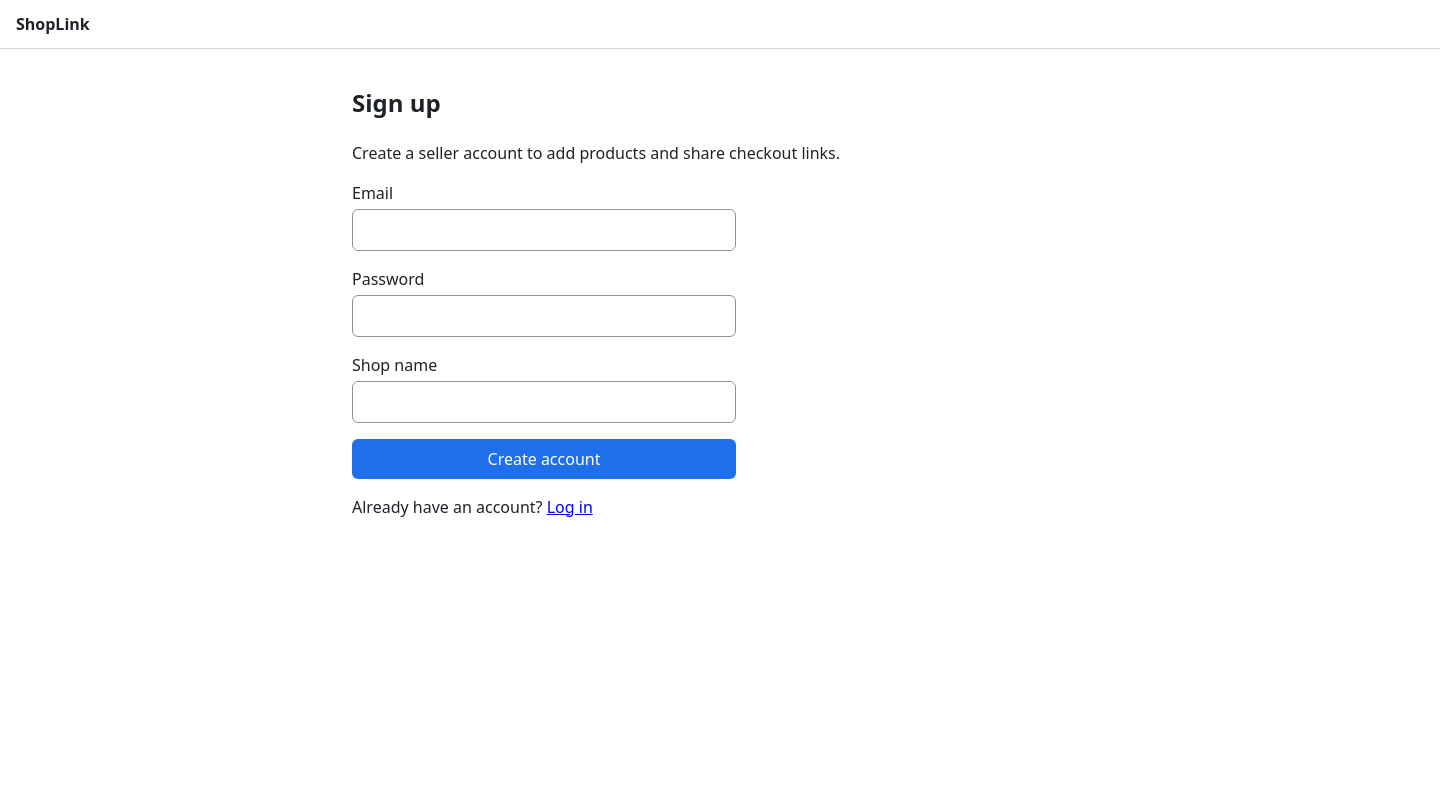
sign up page › shows other failures as an alert and keeps what was typed
Check: the heading "Sign up" is shown, box x1=352 y1=86 x2=441 y2=119
In the field labelled "Email": (544,230) x1=352 y1=209 x2=736 y2=251, type "rafi@example.com"
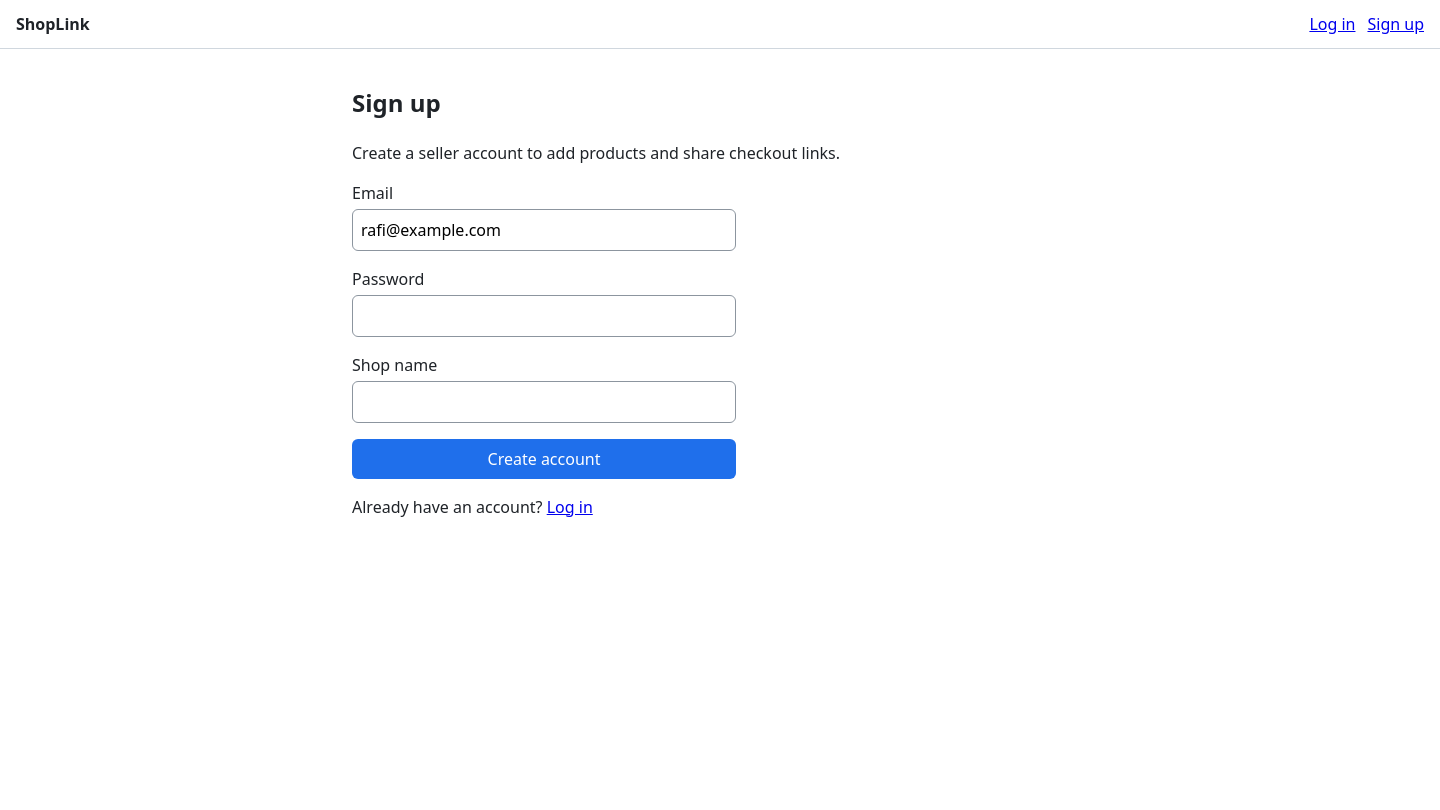
In the password field labelled "Password": (544,316) x1=352 y1=295 x2=736 y2=337, type "correct horse"
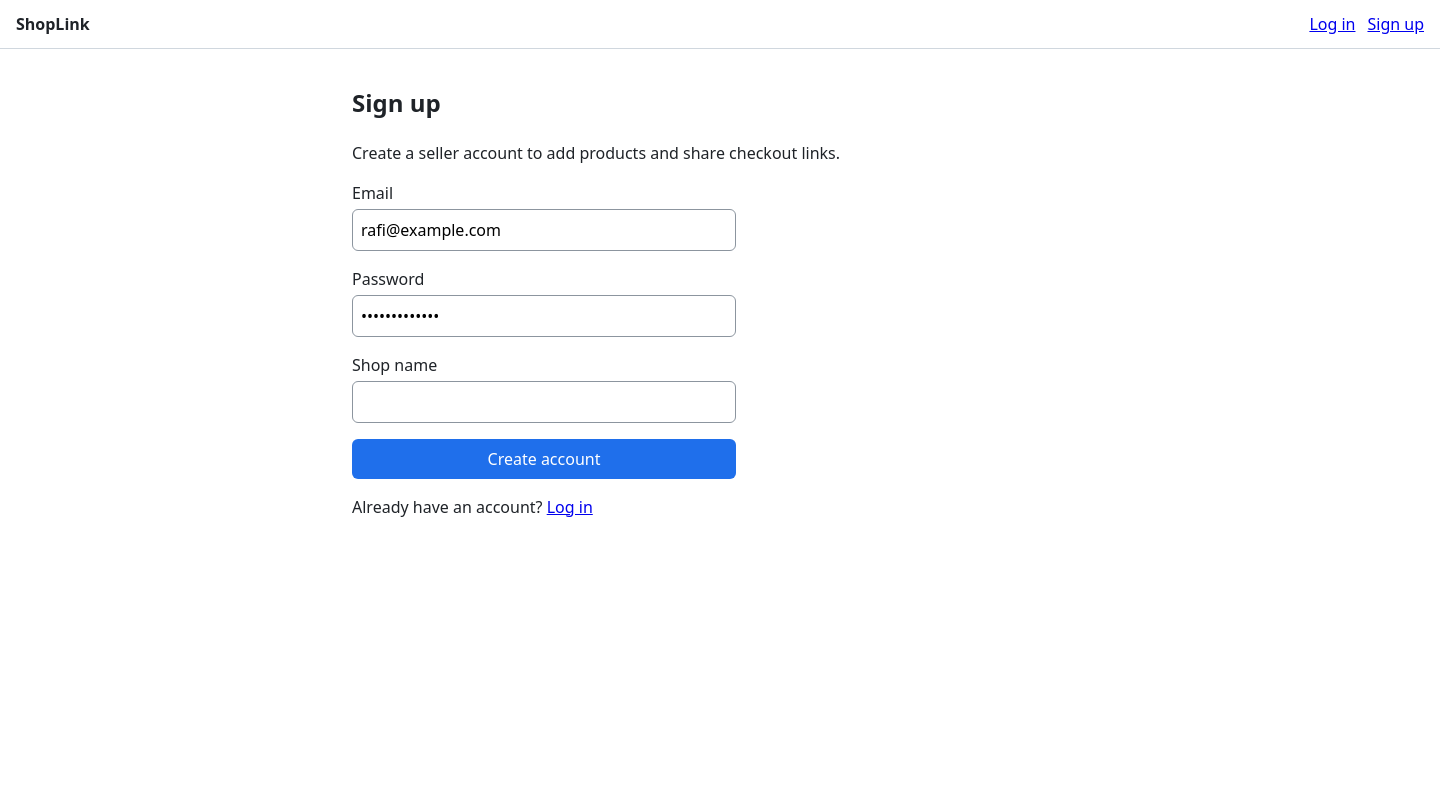
In the field labelled "Shop name": (544,402) x1=352 y1=381 x2=736 y2=423, type "Toko Rafi"
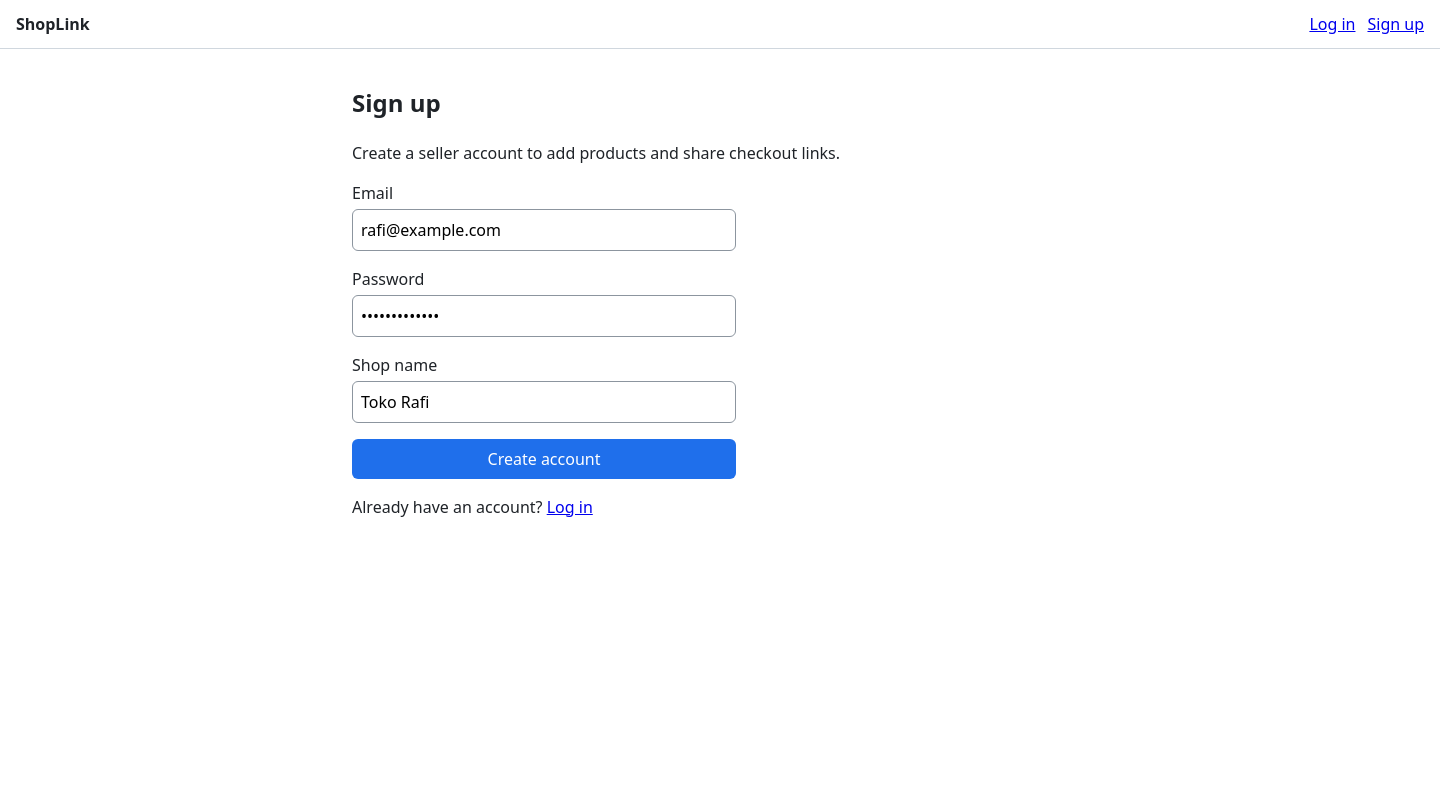
Click the button "Create account": (544,459) x1=352 y1=439 x2=736 y2=479
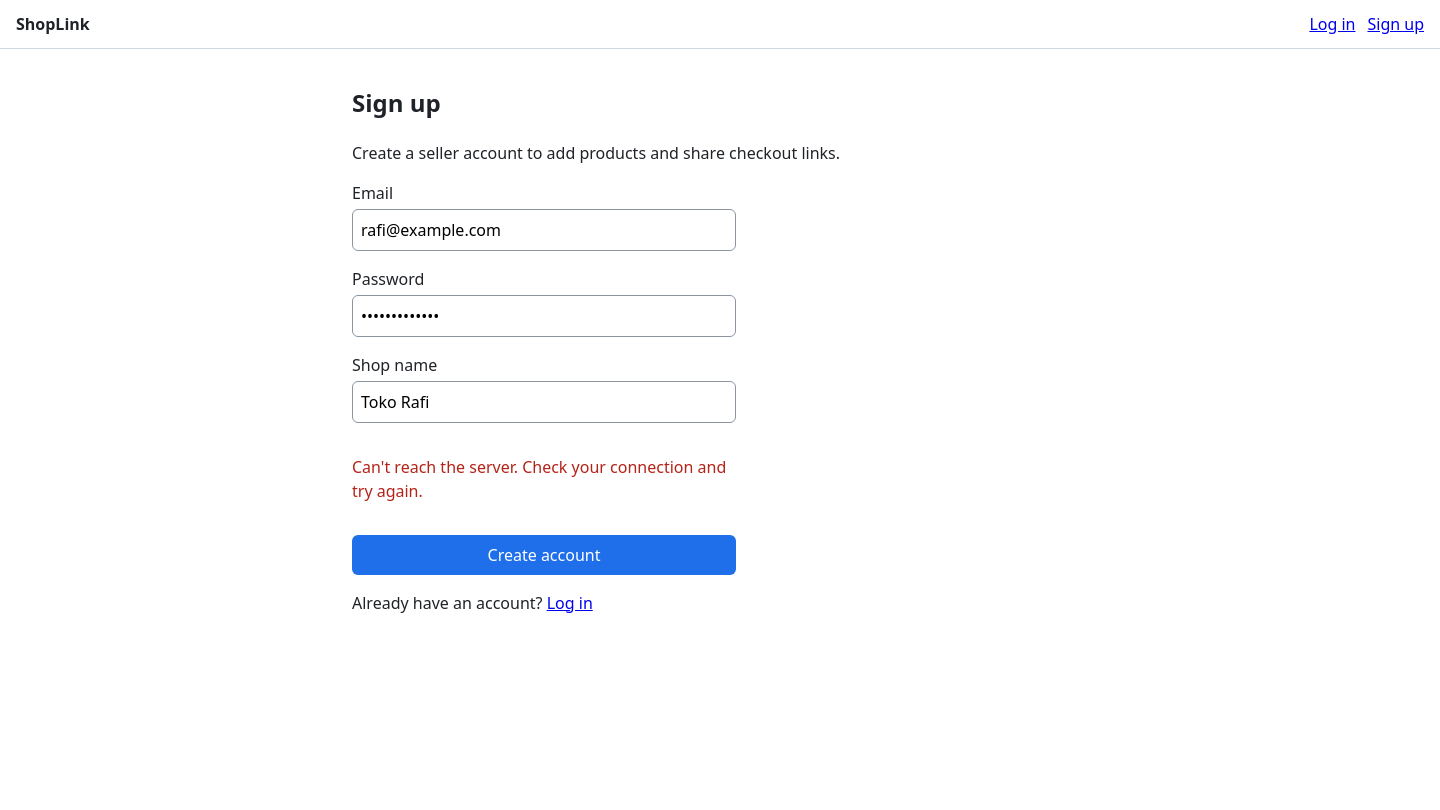
Check: the message shows "Can't reach the server", box x1=352 y1=456 x2=726 y2=502
